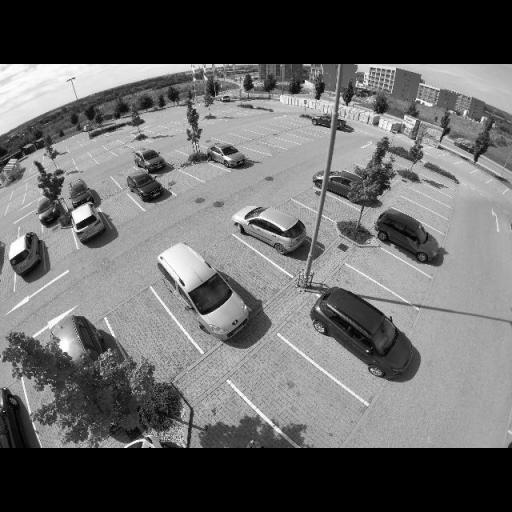busy: (306, 283, 418, 373), (155, 242, 253, 339), (233, 204, 309, 252), (378, 209, 440, 261), (41, 312, 100, 364), (6, 229, 44, 278), (0, 382, 26, 448), (70, 198, 106, 242), (320, 172, 370, 202), (124, 170, 164, 201), (206, 142, 247, 168), (133, 148, 166, 170), (36, 200, 62, 226), (312, 115, 334, 130), (332, 118, 350, 133)
free: (195, 412, 253, 448), (266, 372, 320, 410), (127, 318, 174, 352), (220, 249, 258, 276), (374, 258, 405, 282), (46, 232, 72, 254), (313, 196, 340, 214), (109, 202, 133, 218), (164, 174, 188, 189), (402, 203, 424, 219), (18, 222, 40, 236), (196, 166, 214, 176), (166, 153, 184, 162), (96, 152, 112, 162), (413, 195, 429, 205), (6, 203, 22, 213), (272, 140, 286, 150), (26, 190, 40, 200), (78, 158, 92, 167), (113, 145, 127, 153), (252, 142, 266, 150), (289, 133, 298, 142), (304, 130, 314, 138)
